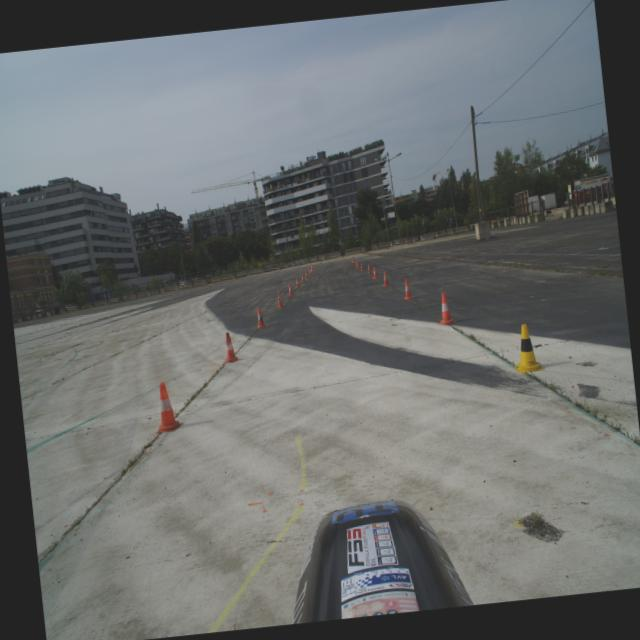large_orange_cone: (350, 256, 354, 265), (310, 264, 314, 272)
orange_cone: (149, 379, 184, 434), (434, 291, 456, 325), (219, 330, 241, 362), (253, 306, 268, 328), (401, 277, 413, 300), (274, 291, 284, 307), (380, 270, 390, 286), (286, 283, 294, 296), (371, 266, 378, 278), (294, 277, 300, 287), (366, 264, 372, 274), (300, 273, 305, 282), (359, 262, 363, 271), (304, 270, 308, 278), (356, 260, 360, 268), (308, 268, 312, 274), (353, 259, 356, 266)
yellow_cone: (509, 322, 544, 373)
